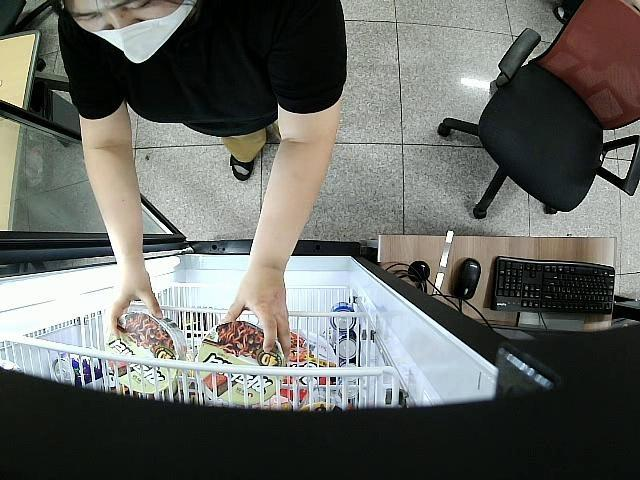03_chapagetti_L: (194, 321, 285, 408), (104, 312, 188, 394)
